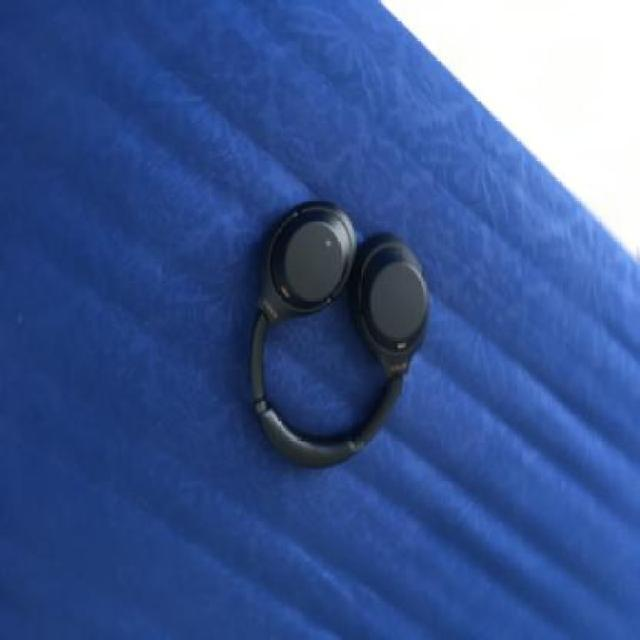earphone: (192, 104, 488, 518)
